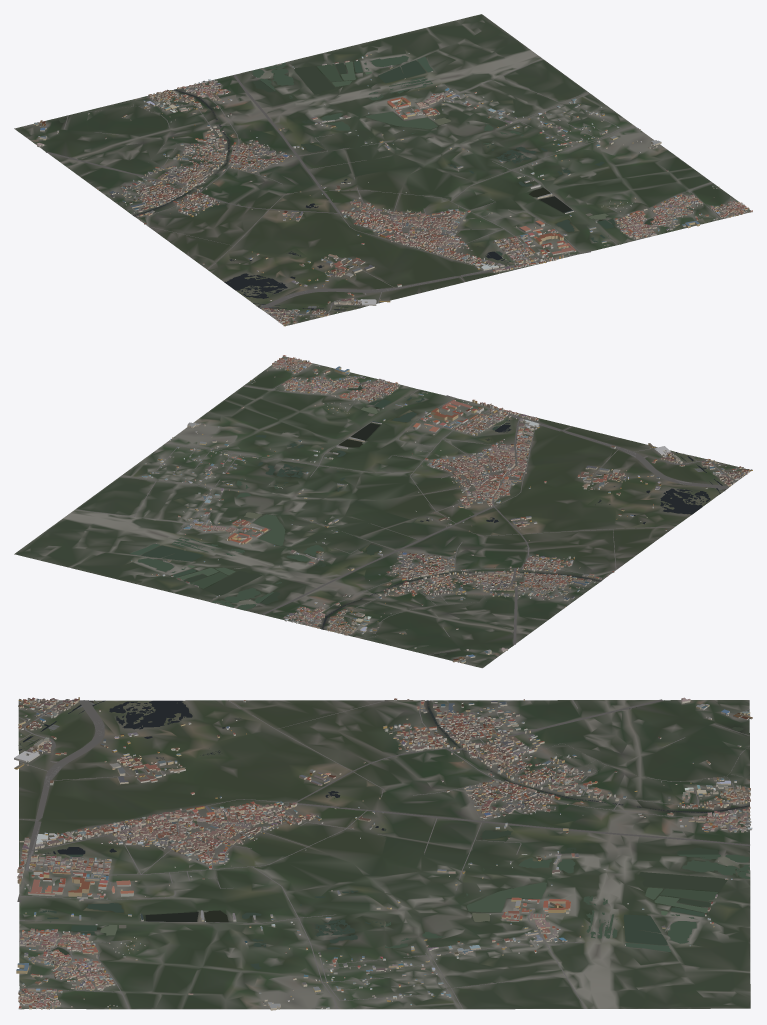
3 views of the same model, one above another, from view 1: azimuth 30°, elevation 25°; view 2: azimuth 150°, elevation 25°; view 3: azimuth 270°, elevation 25° (orthographic). The views are drawn at different scales.
Visible parts, largest first — view 1: ground, buildings, water, roads; view 2: ground, buildings, water, roads; view 3: ground, buildings, water, roads.
Boxes of the visible parts, bbox=[...] form: ground: bbox=[15, 14, 750, 326]; buildings: bbox=[33, 53, 752, 326]; water: bbox=[46, 55, 653, 310]; roads: bbox=[14, 58, 730, 322]; ground: bbox=[14, 356, 750, 667]; buildings: bbox=[131, 355, 752, 663]; water: bbox=[130, 386, 725, 656]; roads: bbox=[75, 365, 741, 668]; ground: bbox=[18, 700, 750, 1009]; buildings: bbox=[14, 697, 752, 1010]; water: bbox=[18, 700, 749, 969]; roads: bbox=[17, 699, 749, 1009].
Bounding box in the file's own units: 2823 × 25.95 × 2834.
